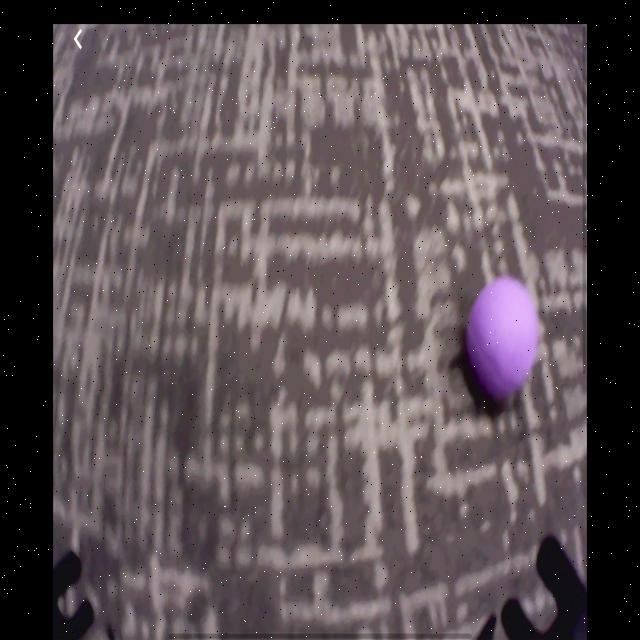ball: (468, 278, 536, 401)
